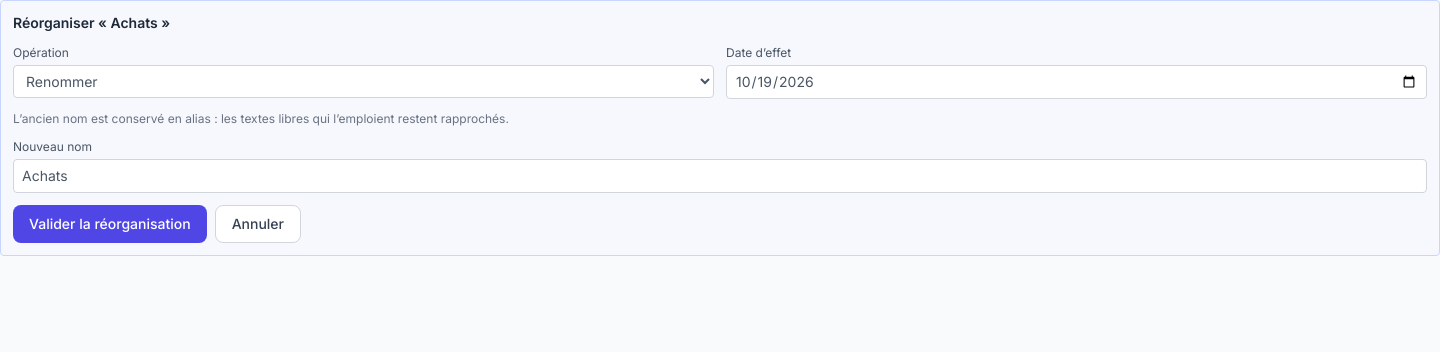
Test case: ReorganisationEntitePanel › erreur expliquée
Type "2026-10-01" into the date field labelled "Date d’effet" at coordinates (1076, 82), box [726, 65, 1427, 99]
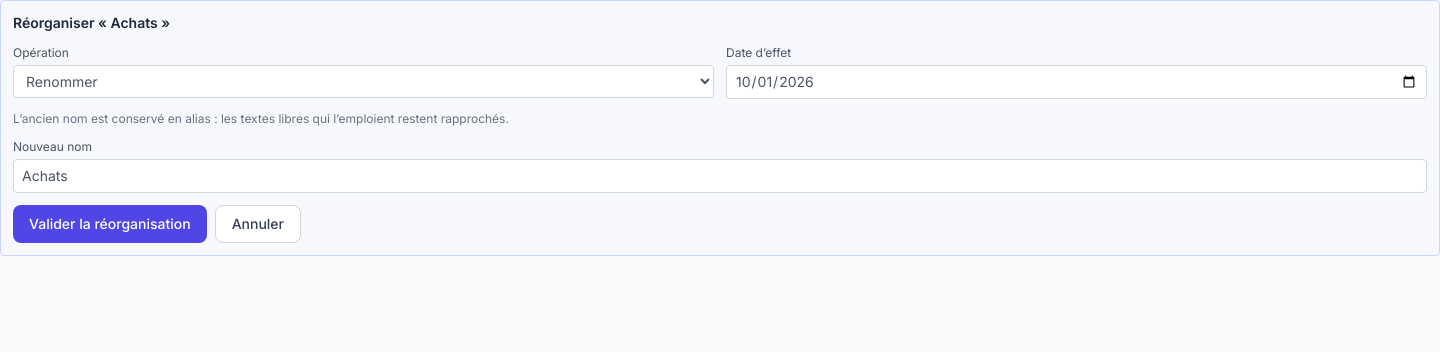
Select "Fusionner" in the dropdown labelled "Opération" at coordinates (364, 82), box [13, 65, 714, 98]
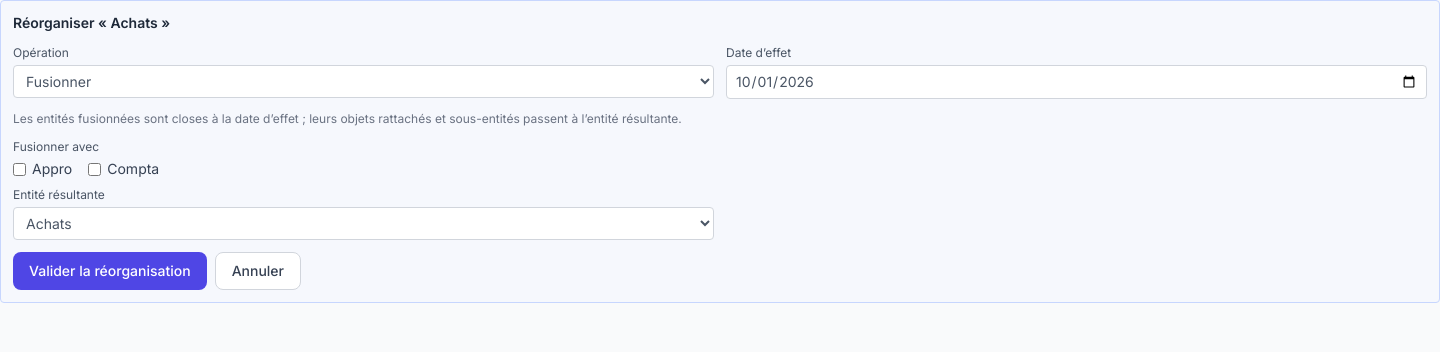
Click the button "Valider la réorganisation" at coordinates (110, 271), box [13, 252, 207, 290]
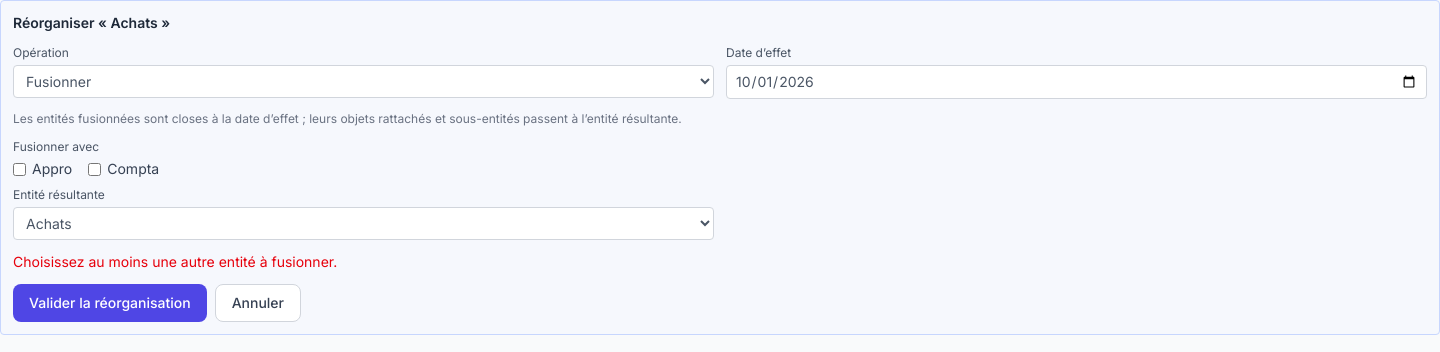
expect the message reads "Choisissez au moins une autre entité à fusionner.": met, box [13, 253, 337, 270]
